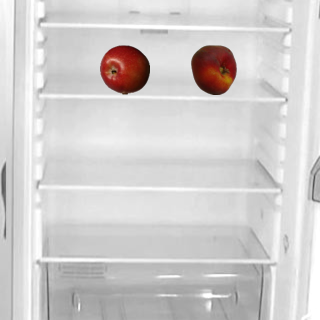Apple Braeburn: (99, 44, 149, 94)
Nectarine Flat: (188, 44, 238, 94)
